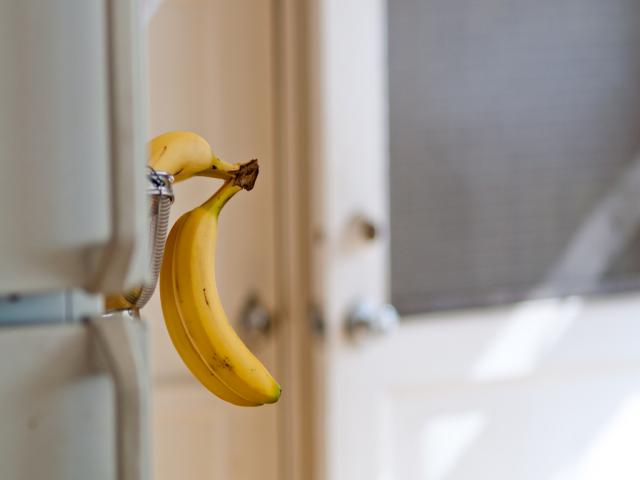Door-handle: (352, 297, 396, 351)
